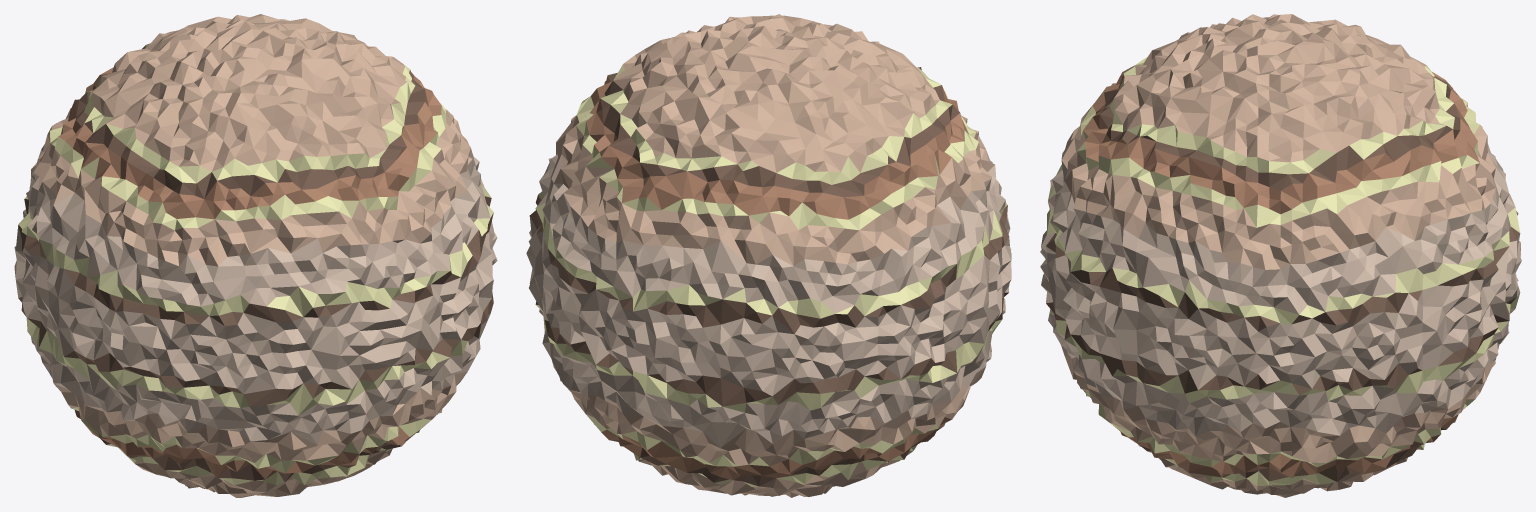
The model's file is jupiter0.fbx.
3 renders of one model, left to right at view 1: azimuth 30°, elevation 25°; view 2: azimuth 150°, elevation 25°; view 3: azimuth 270°, elevation 25°, orthographic.
Visible parts, largest first — view 1: Jupiter V2; view 2: Jupiter V2; view 3: Jupiter V2.
Boxes of the visible parts, x1,y1,x2,y2 form: Jupiter V2: [14, 14, 497, 497]; Jupiter V2: [526, 14, 1011, 497]; Jupiter V2: [1040, 14, 1521, 497].
Bounding box in the file's own units: 211 × 211 × 210.
